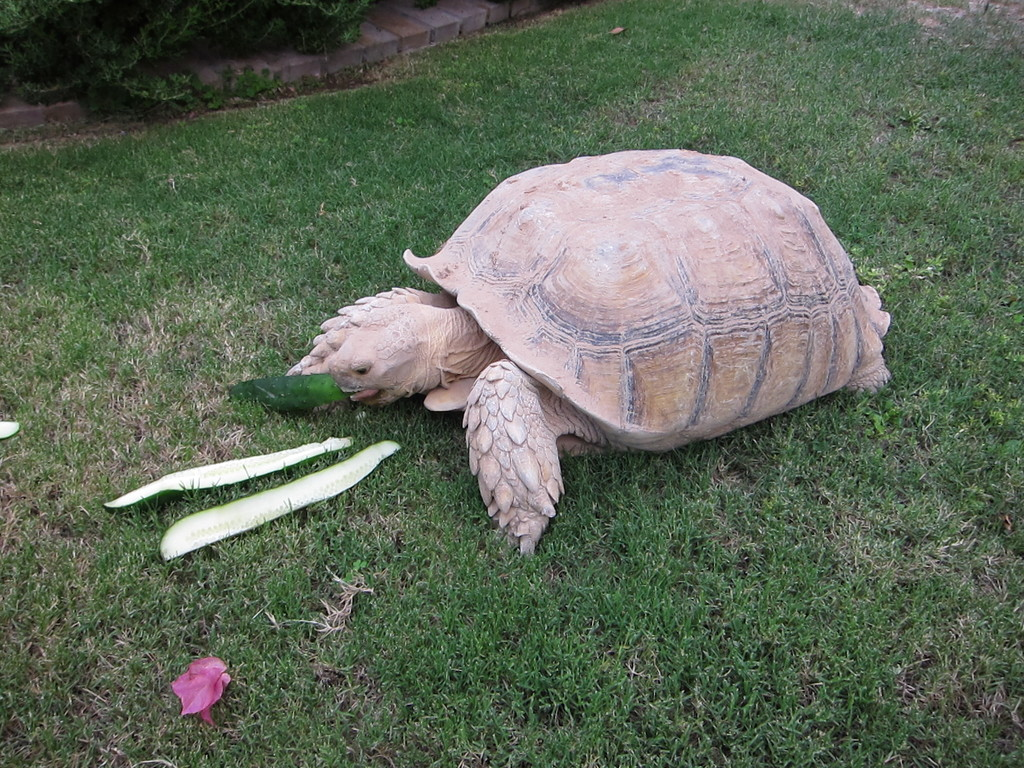Sea turtles: (277, 149, 895, 561)
